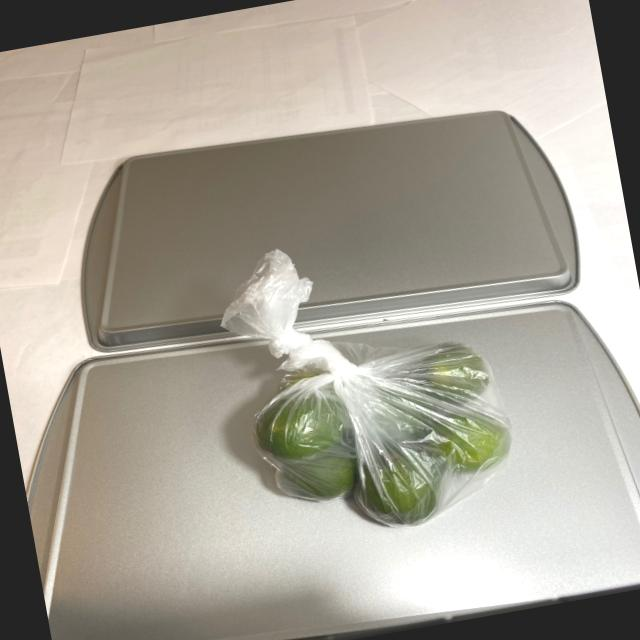lemon: (235, 327, 522, 549)
